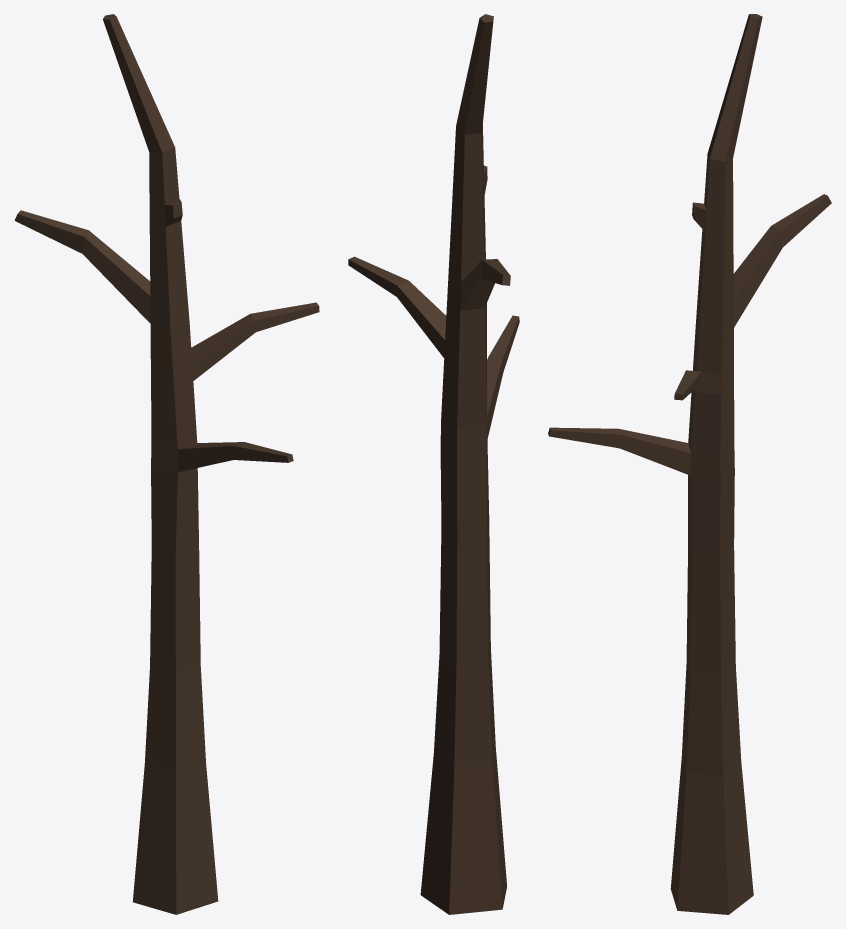
Rendered from deadtree2.fbx.
3 renders of one model, left to right at view 1: azimuth 30°, elevation 25°; view 2: azimuth 150°, elevation 25°; view 3: azimuth 270°, elevation 25°, orthographic. The views are drawn at different scales.
Parts seen in each view (by area): view 1: trunk2; view 2: trunk2; view 3: trunk2.
Boxes of the visible parts, x1,y1,x2,y2 form: trunk2: [14, 14, 319, 914]; trunk2: [348, 14, 519, 914]; trunk2: [548, 14, 831, 914].
Size of the model in its own units: 728 by 2653 by 791.
